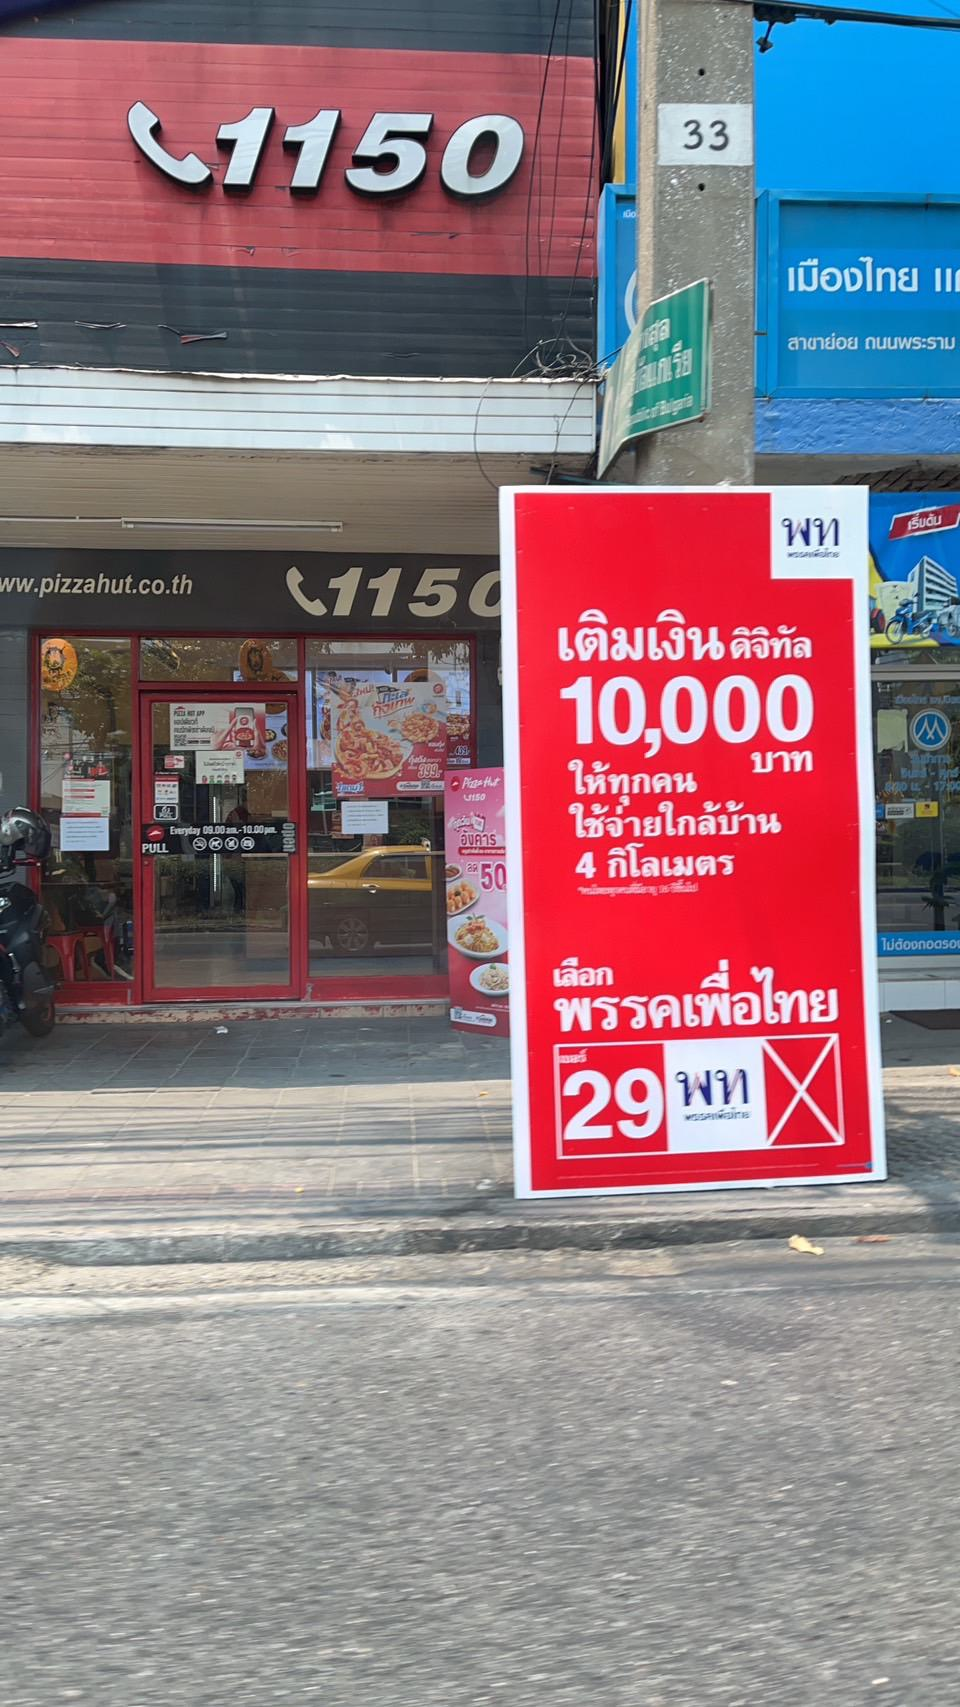Banner: (498, 490, 899, 1193)
